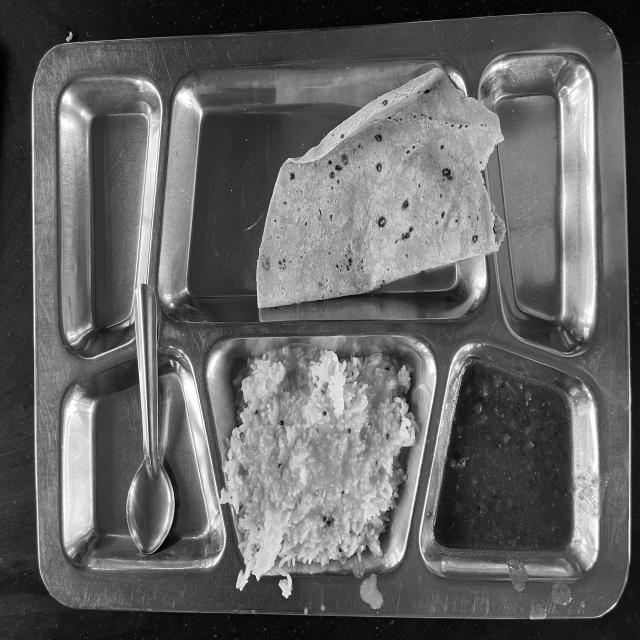70.4- Food Left: (46, 64, 620, 593)
